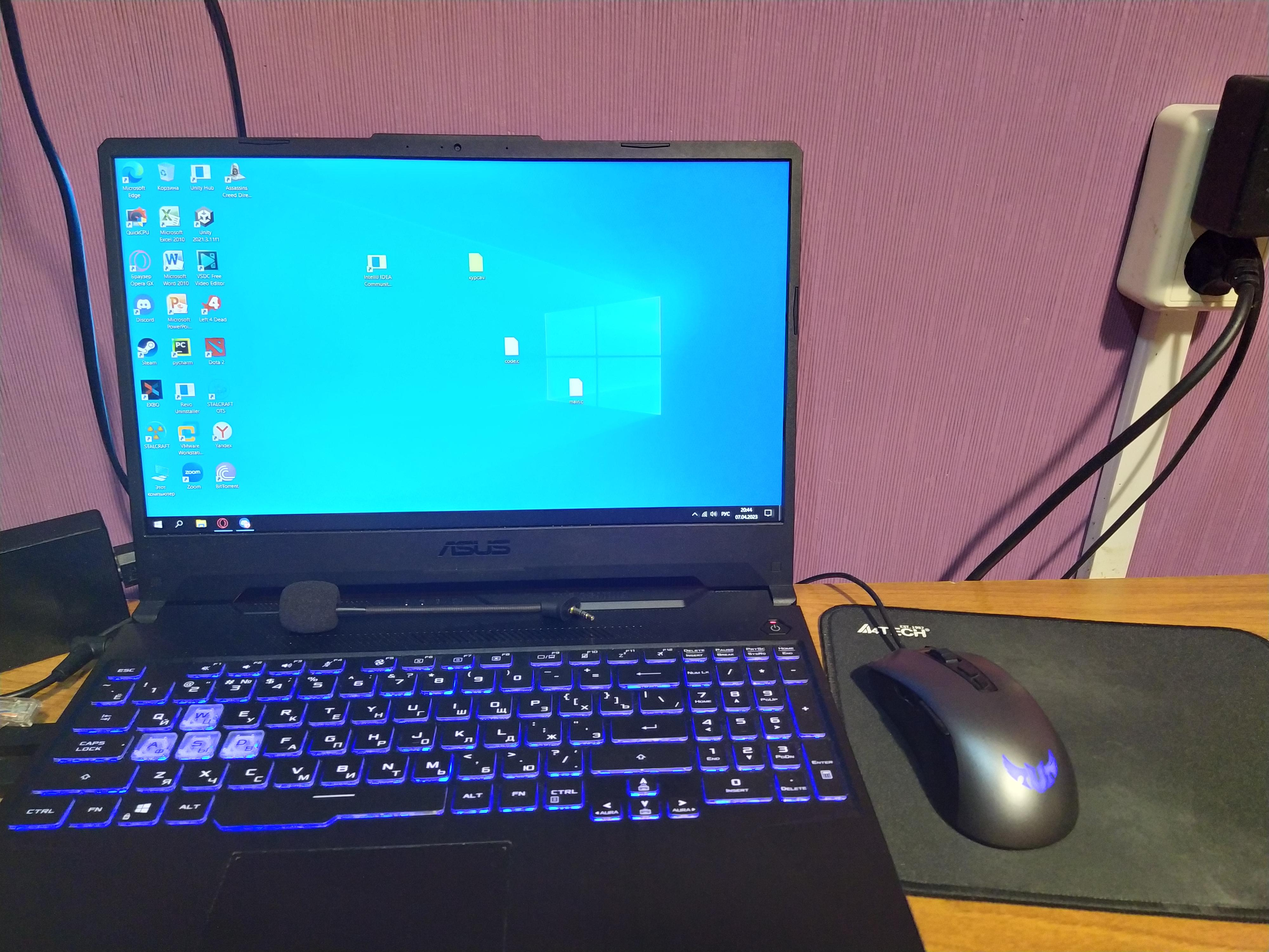monitor: (86, 130, 817, 624)
